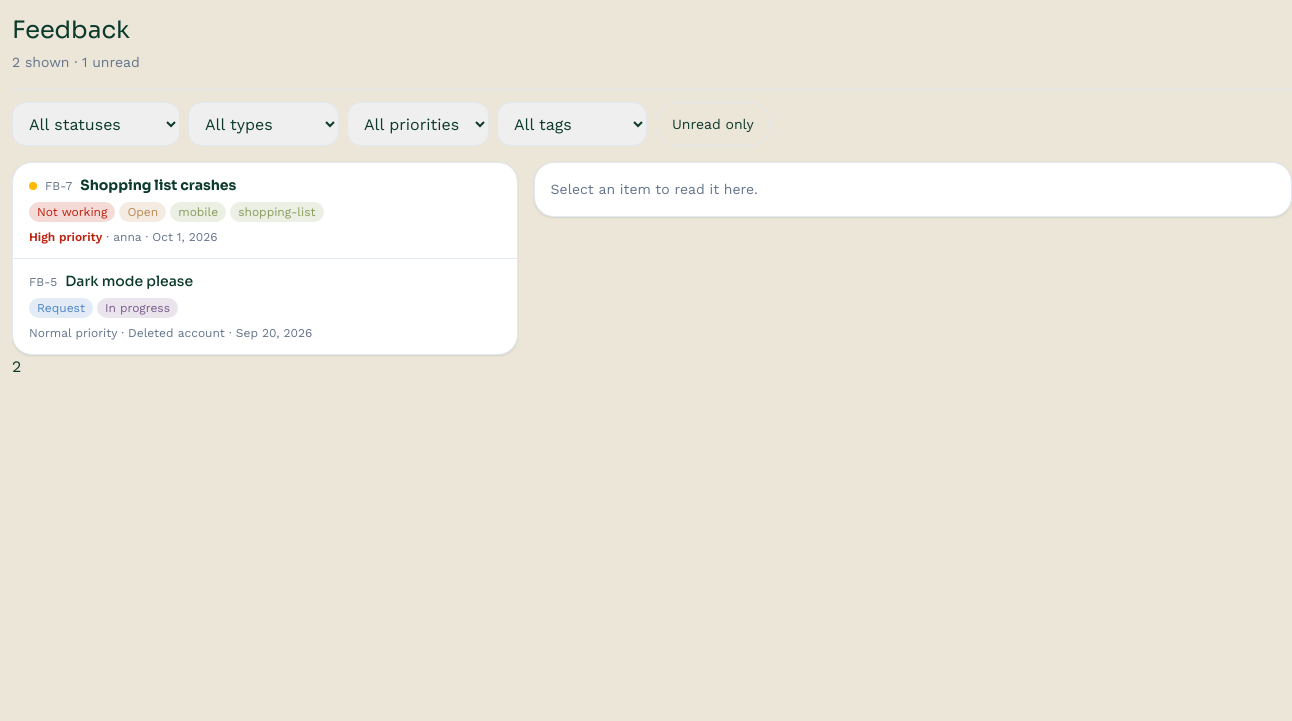
Test: changing the status saves it and updates the row
Expected: the text "Shopping list crashes" is shown, [80,175,236,196]
Expected: the text named "badge" reads "2", [12,357,21,376]
Click the button that starts with "FB-5": (129, 281) [13,259,517,354]
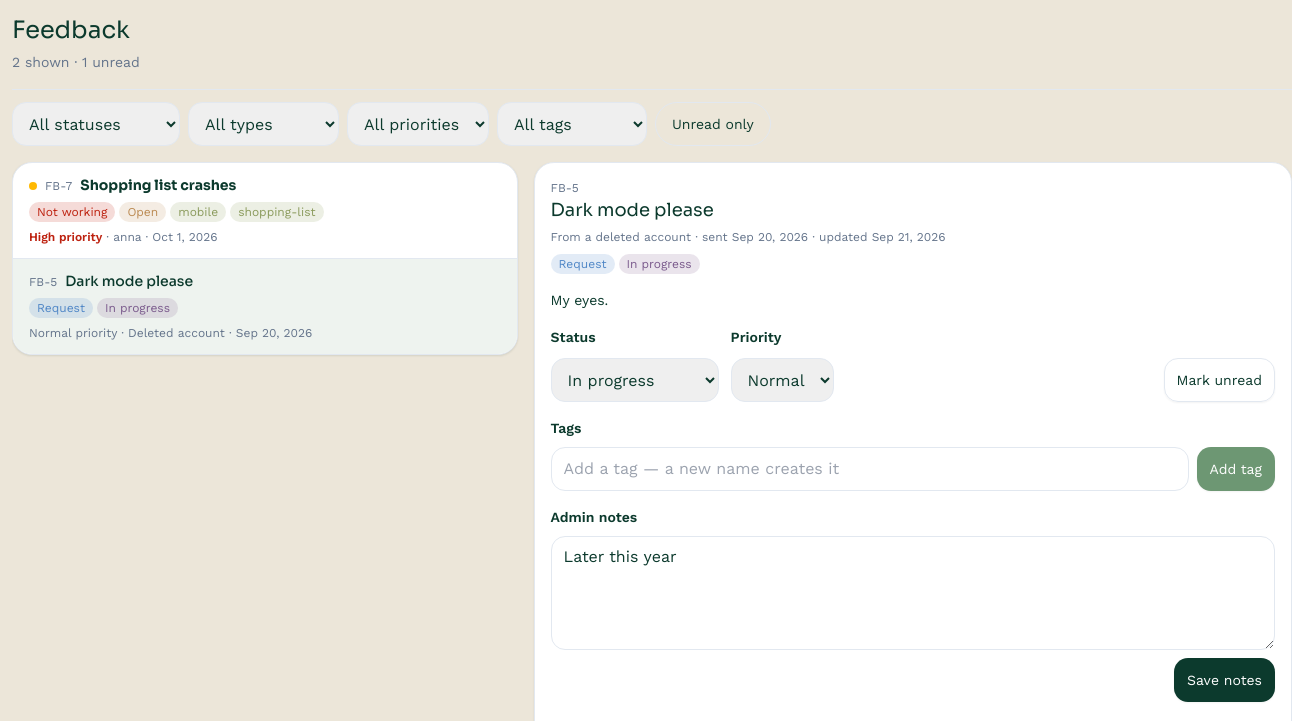
Select "Closed: fixed" in the dropdown labelled "Status": (635, 380) [551,358,719,402]
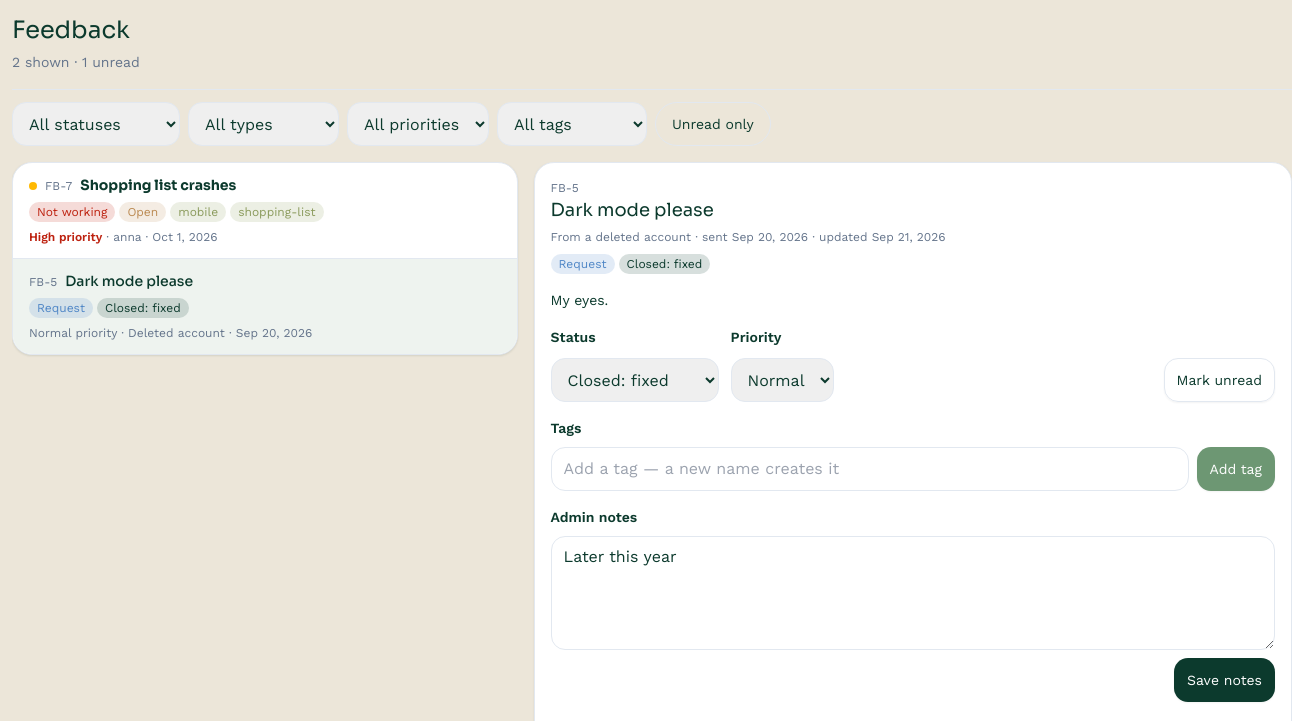
Result: the list item "FB-5" shows "Closed: fixed" at [13,259,517,354]
